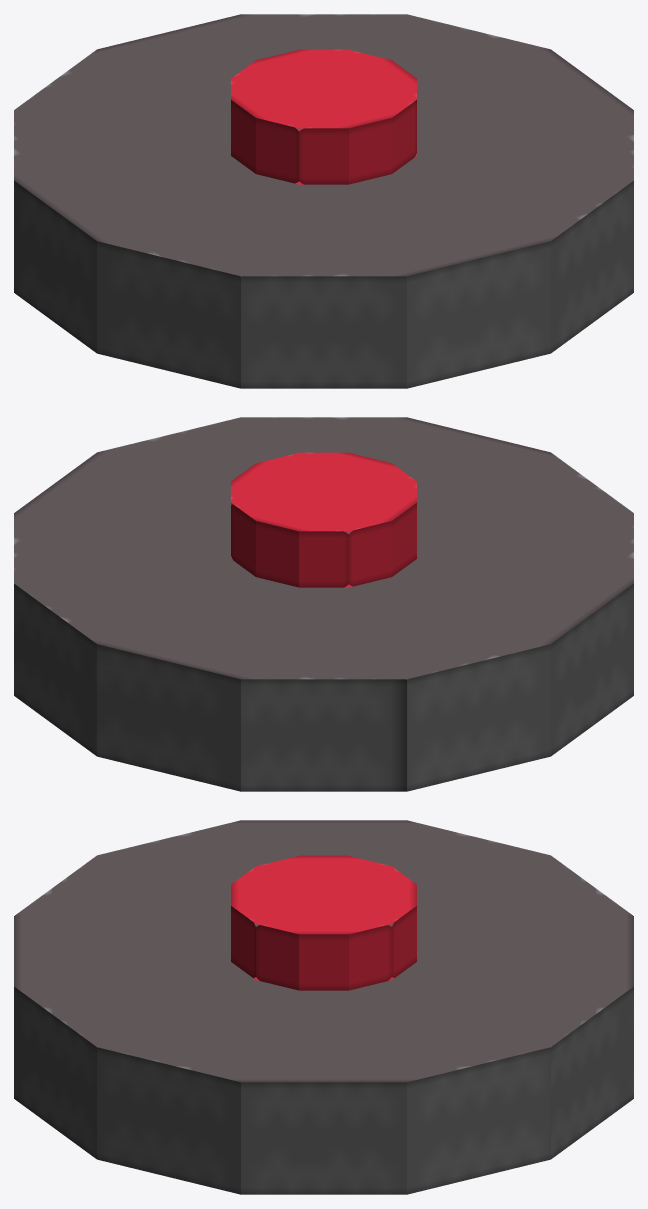
Rendered from Mine.fbx.
3 views of the same model, one above another, from view 1: azimuth 30°, elevation 25°; view 2: azimuth 150°, elevation 25°; view 3: azimuth 270°, elevation 25° (orthographic).
Parts seen in each view (by area): view 1: cylinder, Red; view 2: cylinder, Red; view 3: cylinder, Red.
Part boxes in pixels (x1=…): cylinder: x1=14, y1=14, x2=633, y2=388; Red: x1=231, y1=49, x2=416, y2=184; cylinder: x1=14, y1=417, x2=633, y2=791; Red: x1=231, y1=452, x2=416, y2=587; cylinder: x1=14, y1=820, x2=633, y2=1194; Red: x1=231, y1=855, x2=416, y2=990.
Size of the model in its own units: 62.5 by 18.75 by 62.5.
1 material, 1 textured.
